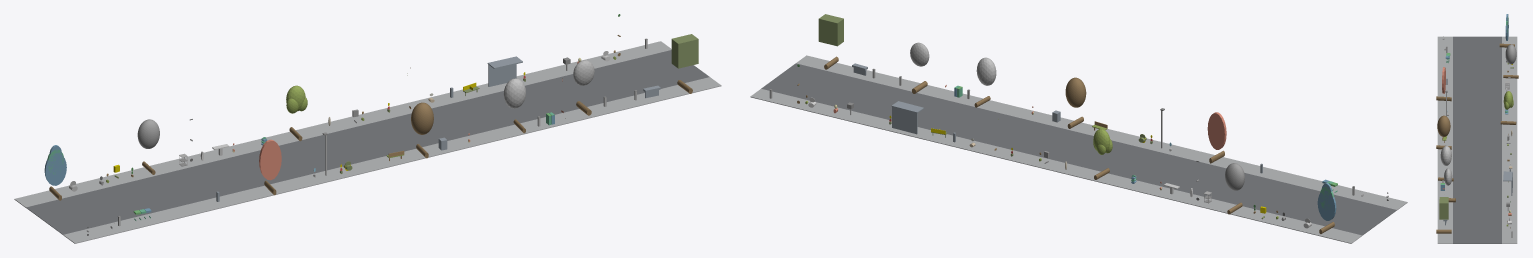
3 renders of one model, left to right at view 1: azimuth 30°, elevation 25°; view 2: azimuth 150°, elevation 25°; view 3: azimuth 270°, elevation 25°, orthographic. The views are drawn at different scales.
Visible parts, largest first — view 1: road_slab, sidewalk_left, sidewalk_right, inst_0025, inst_0020, inst_0018, inst_0026, inst_0022, inst_0023, inst_0019, inst_0021, inst_0024; view 2: road_slab, sidewalk_right, sidewalk_left, inst_0025, inst_0026, inst_0020, inst_0018, inst_0022, inst_0023, inst_0019, inst_0021, inst_0024; view 3: road_slab, sidewalk_right, sidewalk_left, inst_0025, inst_0022, inst_0019, inst_0023, inst_0021, inst_0020, inst_0024, inst_0018, inst_0026.
Part boxes in pixels (x1,y1,x2,y2): road_slab: (26,50,709,234); sidewalk_left: (63,77,721,243); sidewalk_right: (14,41,671,207); inst_0025: (671,34,698,93); inst_0020: (259,139,281,195); inst_0018: (44,145,66,200); inst_0026: (487,56,522,86); inst_0022: (411,102,433,158); inst_0023: (503,78,525,133); inst_0019: (137,119,159,174); inst_0021: (286,85,307,141); inst_0024: (573,60,594,115); road_slab: (761,63,1396,235); sidewalk_right: (750,89,1362,243); sidewalk_left: (796,55,1407,210); inst_0025: (818,14,843,69); inst_0026: (891,101,924,134); inst_0020: (1207,112,1226,163); inst_0018: (1317,183,1336,233); inst_0022: (1065,77,1086,128); inst_0023: (974,57,996,107); inst_0019: (1225,163,1244,214); inst_0021: (1093,129,1112,179); inst_0024: (910,42,929,93); road_slab: (1453,36,1501,243); sidewalk_right: (1502,36,1517,243); sidewalk_left: (1437,36,1452,243); inst_0025: (1436,197,1451,233); inst_0022: (1436,115,1451,149); inst_0019: (1503,44,1518,78); inst_0023: (1438,146,1453,181); inst_0021: (1500,91,1516,124); inst_0020: (1436,67,1451,101); inst_0024: (1444,168,1455,202); inst_0018: (1499,14,1514,47); inst_0026: (1503,171,1512,195).
Size of the model in its own units: 80 by 6.08 by 13.52.
